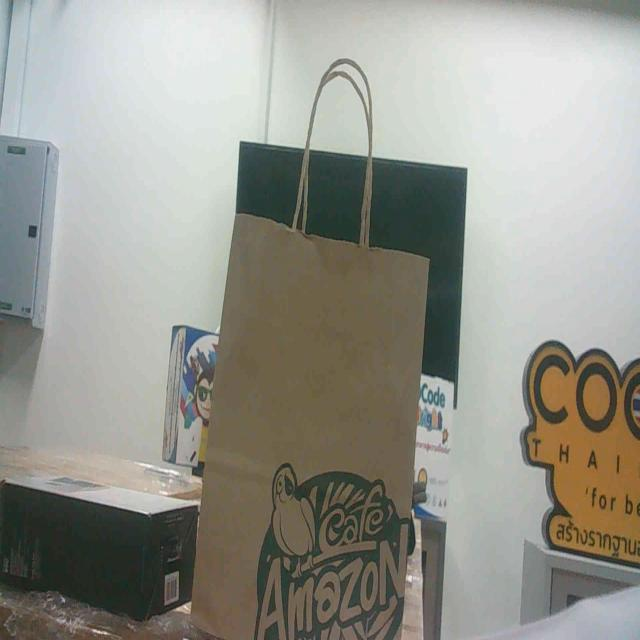bag: (200, 192, 449, 640)
